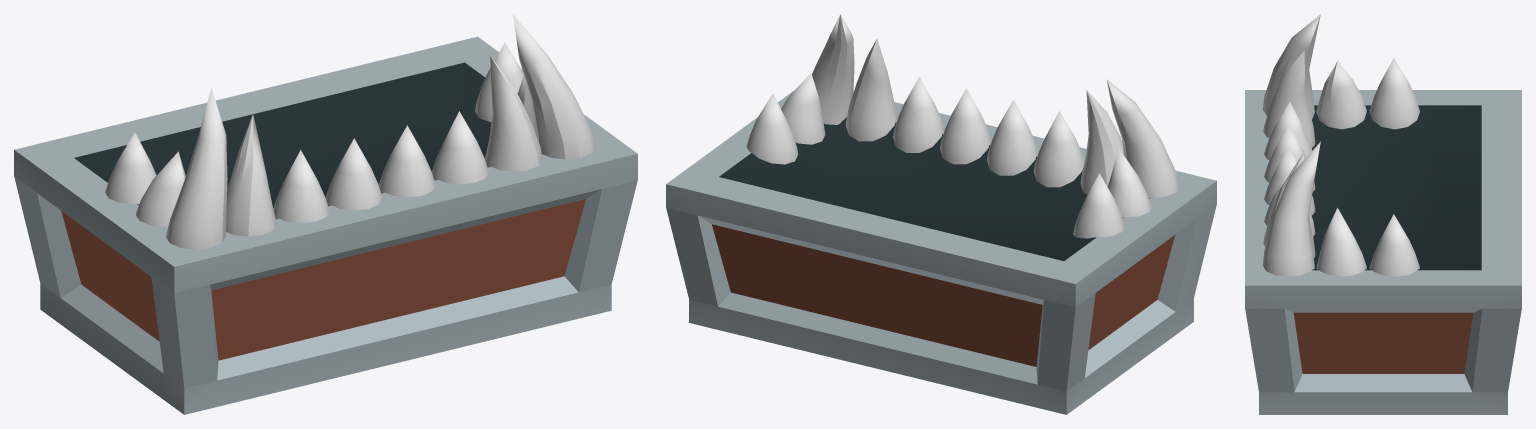
The model's file is chest_uncommon_mimic.glb.
3 views of the same model, side by side, from view 1: azimuth 30°, elevation 25°; view 2: azimuth 150°, elevation 25°; view 3: azimuth 270°, elevation 25° (orthographic). The views are drawn at different scales.
Parts seen in each view (by area): view 1: chest_uncommon_mimic; view 2: chest_uncommon_mimic; view 3: chest_uncommon_mimic.
Boxes of the visible parts, x1,y1,x2,y2 form: chest_uncommon_mimic: (14, 14, 637, 414); chest_uncommon_mimic: (666, 14, 1216, 414); chest_uncommon_mimic: (1245, 14, 1521, 414).
Bounding box in the file's own units: 0.6624 × 0.3902 × 0.396.
